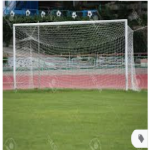goals: (12, 19, 140, 96)
